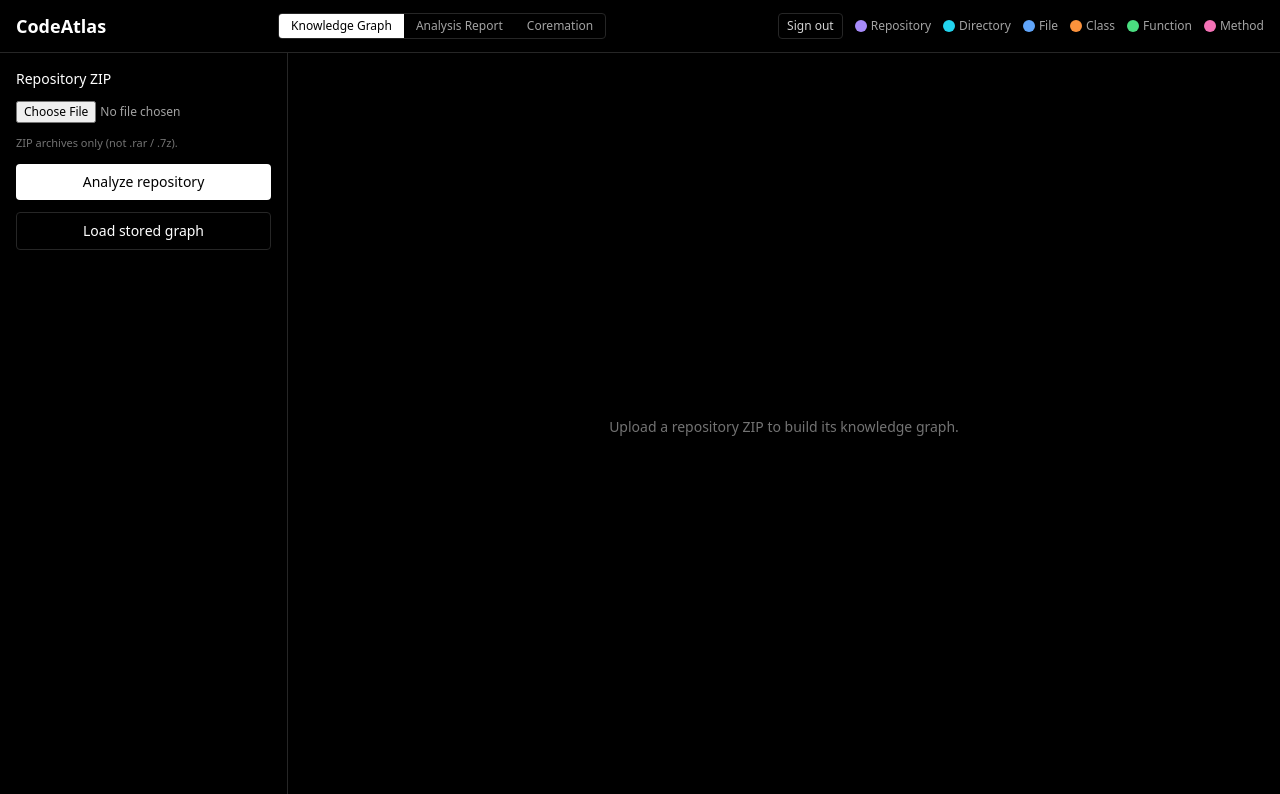
Test case: App search integration › reveals an out-of-scope search result on demand
Earlier steps of the test are not shown.
Click the button "Analyze repository". click: (144, 182)
box: 16,164 -> 271,200
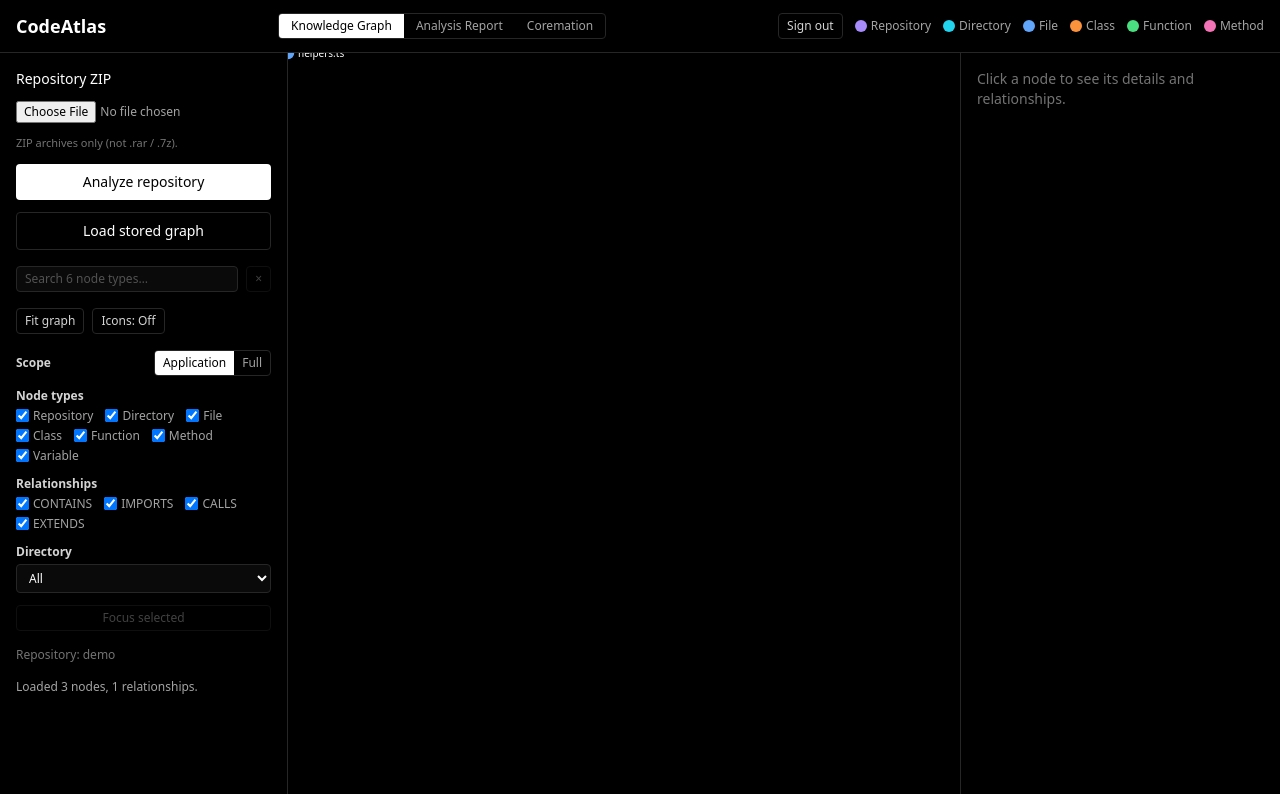
Check: the field named "Search graph nodes" is shown
Type "connection" into the field named "Search graph nodes". click: (127, 278)
box: 16,266 -> 238,292
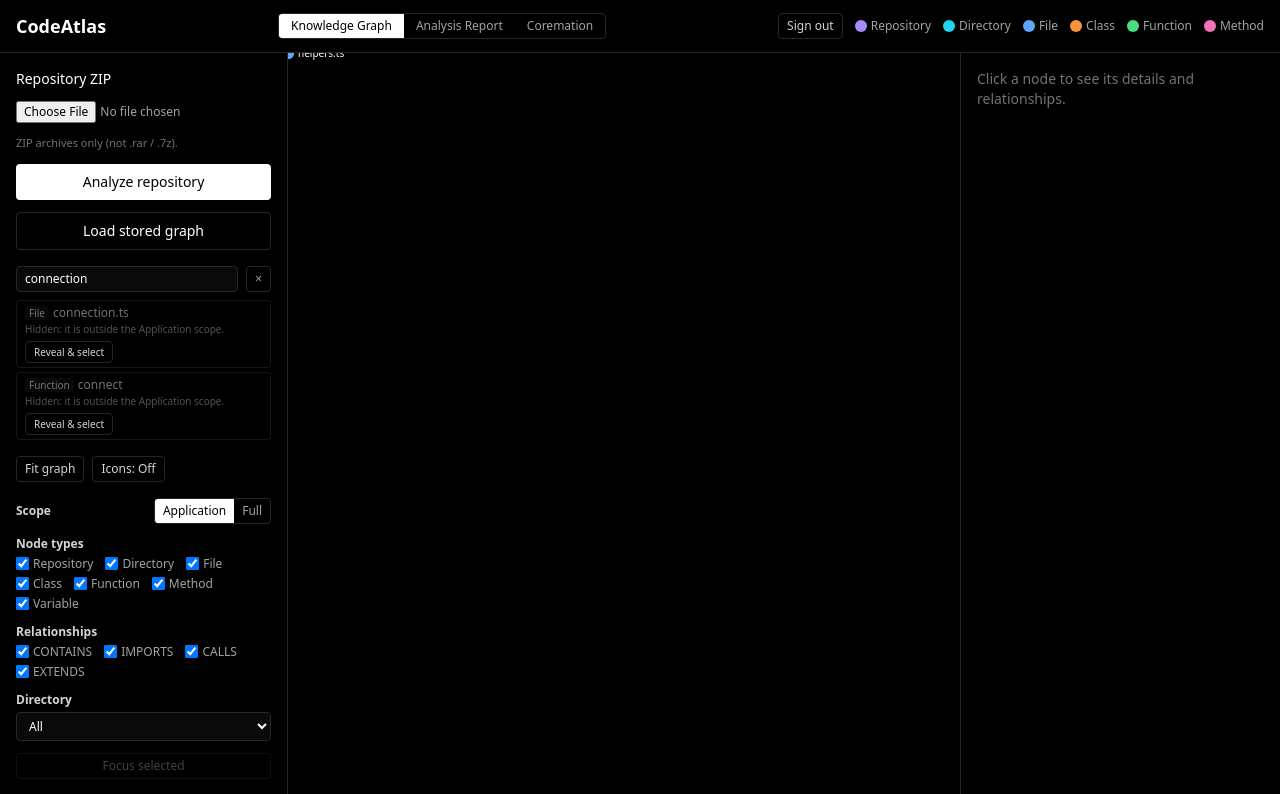
Check: the text "Hidden: it is outside the Application scope." below "connection.ts" is shown, box 25,322 -> 62,336
Click the button "Reveal & select" below "connection.ts". click: (69, 352)
box: 25,340 -> 113,362
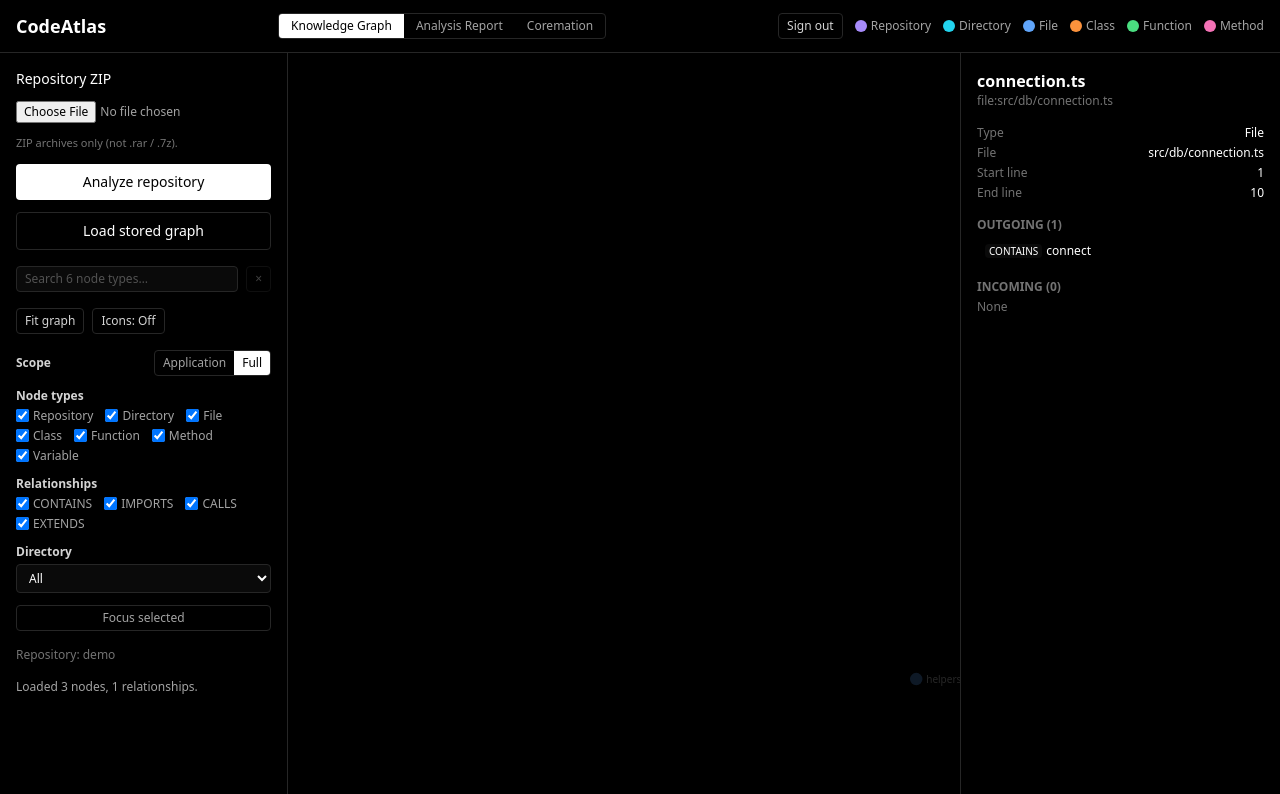
Check: the heading "connection.ts" is shown, box 977,70 -> 1086,92
